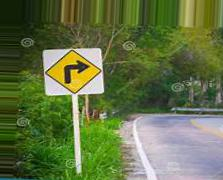right: (43, 48, 104, 95)
